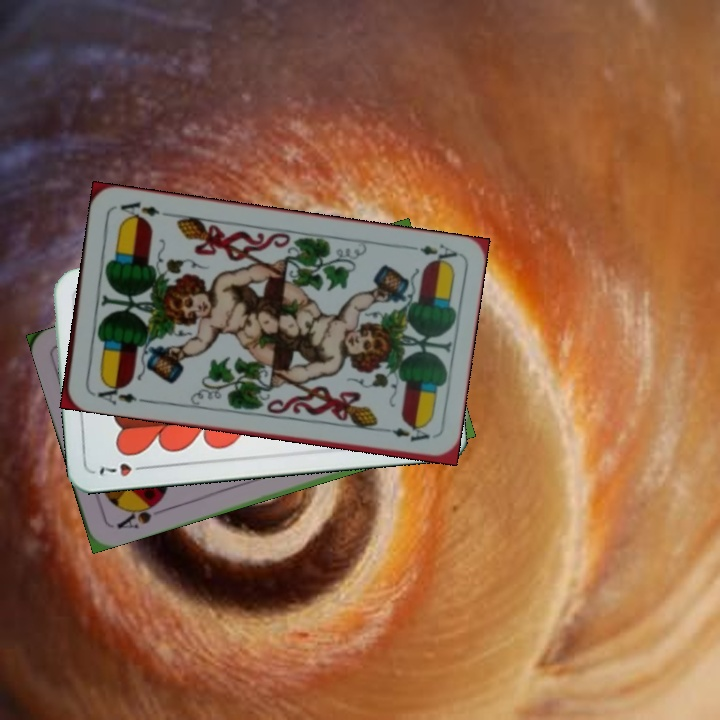EA: (87, 378, 146, 407), (402, 240, 460, 268)
H7: (95, 459, 151, 480)
SA: (113, 496, 168, 532)
